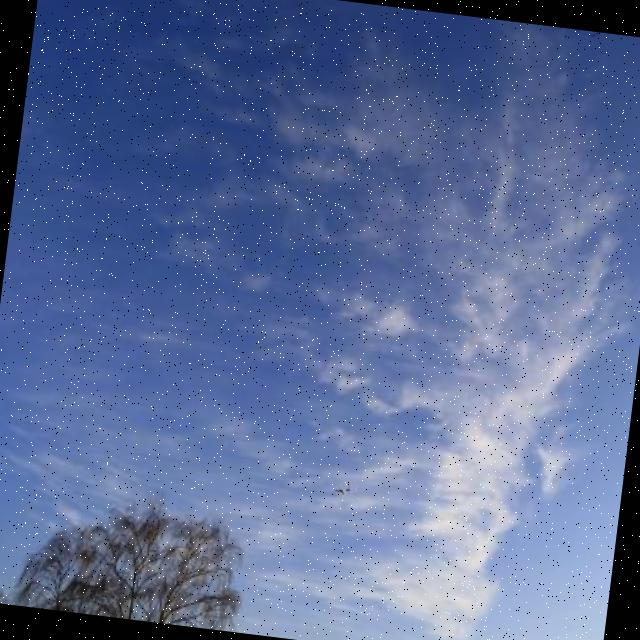Ct: (1, 1, 640, 467)
